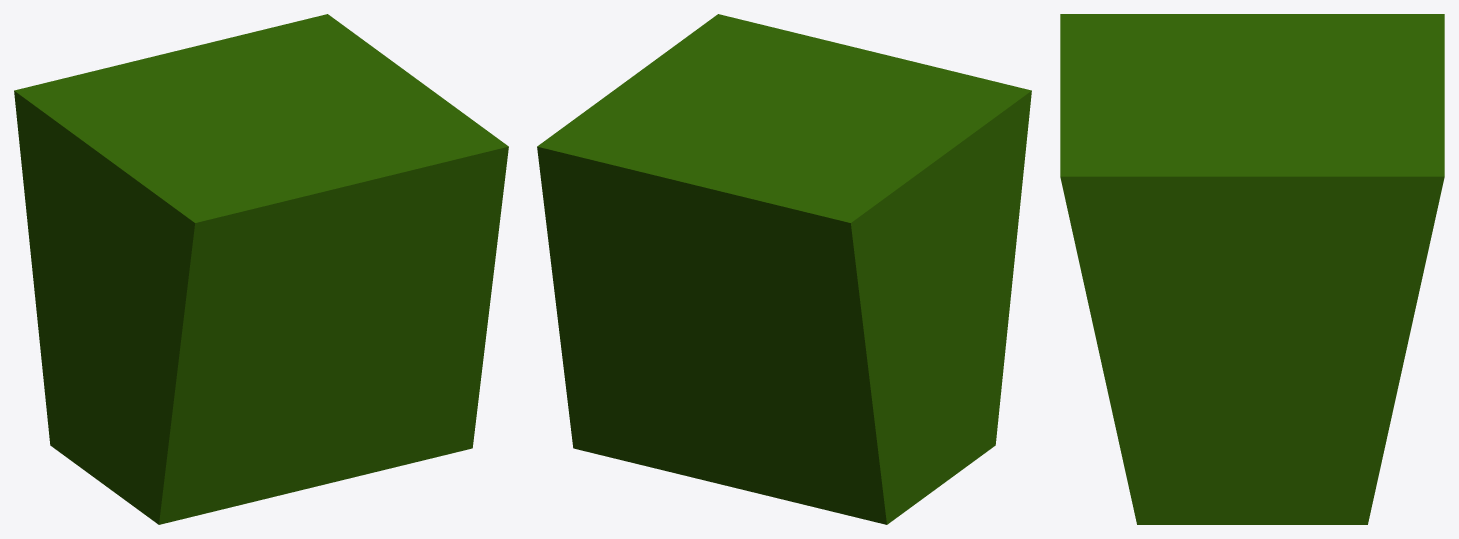
File: Grass_02_H_F.fbx
The picture shows the model from 3 angles, left to right: view 1: azimuth 30°, elevation 25°; view 2: azimuth 150°, elevation 25°; view 3: azimuth 270°, elevation 25°; orthographic projection. The views are drawn at different scales.
Visible parts, largest first — view 1: 3, 1, 4, 2; view 2: 4, 2, 3, 1; view 3: 1, 2, 3, 4.
Boxes of the visible parts, x1=… form: 3: x1=104, y1=118, x2=351, y2=524; 1: x1=262, y1=80, x2=508, y2=486; 4: x1=14, y1=52, x2=260, y2=484; 2: x1=171, y1=14, x2=417, y2=118; 4: x1=694, y1=118, x2=941, y2=524; 2: x1=537, y1=80, x2=783, y2=486; 3: x1=785, y1=52, x2=1031, y2=484; 1: x1=628, y1=14, x2=874, y2=118; 1: x1=1060, y1=95, x2=1252, y2=524; 2: x1=1252, y1=95, x2=1444, y2=524; 3: x1=1060, y1=14, x2=1252, y2=95; 4: x1=1252, y1=14, x2=1444, y2=95.
Bounding box in the file's own units: 200 × 200 × 200.
